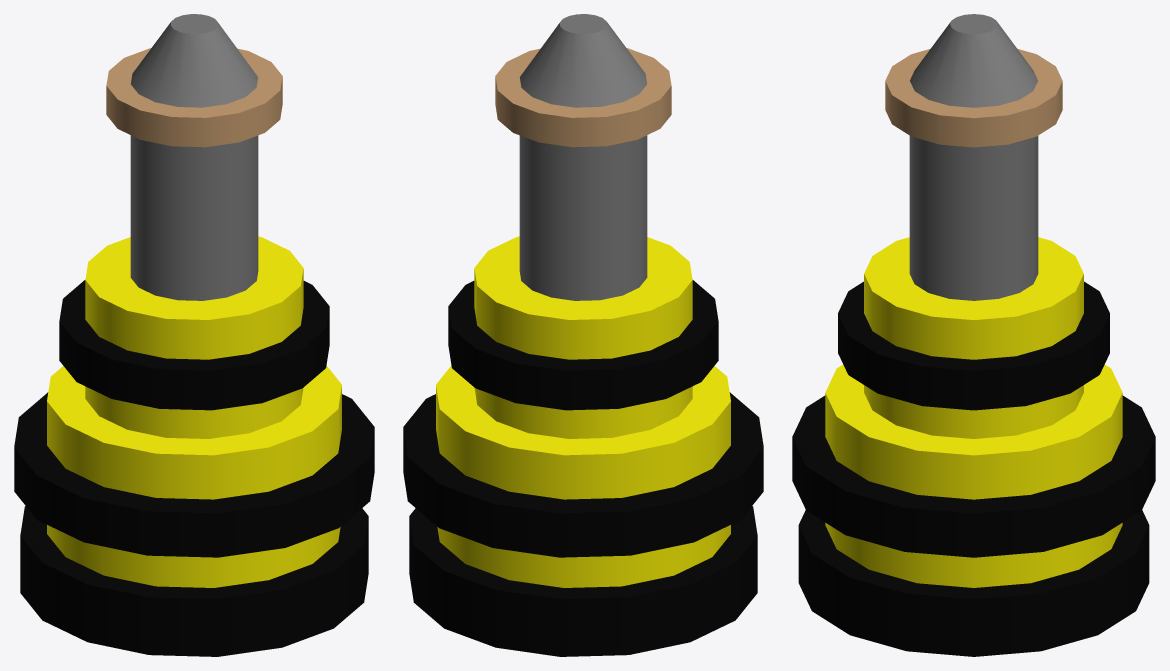
File: support6_1.fbx
3 renders of one model, left to right at view 1: azimuth 30°, elevation 25°; view 2: azimuth 150°, elevation 25°; view 3: azimuth 270°, elevation 25°, orthographic.
Parts seen in each view (by area): view 1: Cylinder.038, Cylinder.046; view 2: Cylinder.038, Cylinder.046; view 3: Cylinder.038, Cylinder.046.
Boxes of the visible parts, left/top/right/bottom form: Cylinder.038: left=14, top=236, right=374, bottom=656; Cylinder.046: left=106, top=14, right=282, bottom=300; Cylinder.038: left=403, top=236, right=763, bottom=656; Cylinder.046: left=495, top=14, right=671, bottom=300; Cylinder.038: left=792, top=237, right=1155, bottom=656; Cylinder.046: left=885, top=14, right=1062, bottom=300.
Bounding box in the file's own units: 400 × 679 × 400.
